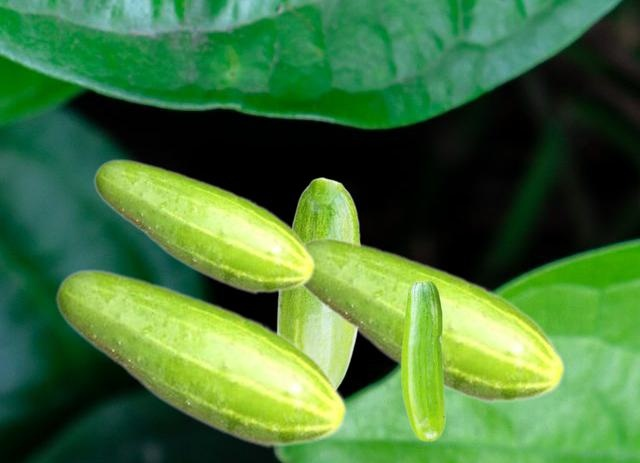cucumber: (55, 268, 347, 448), (302, 236, 565, 404), (93, 158, 315, 294), (276, 177, 362, 387), (401, 280, 444, 440)
